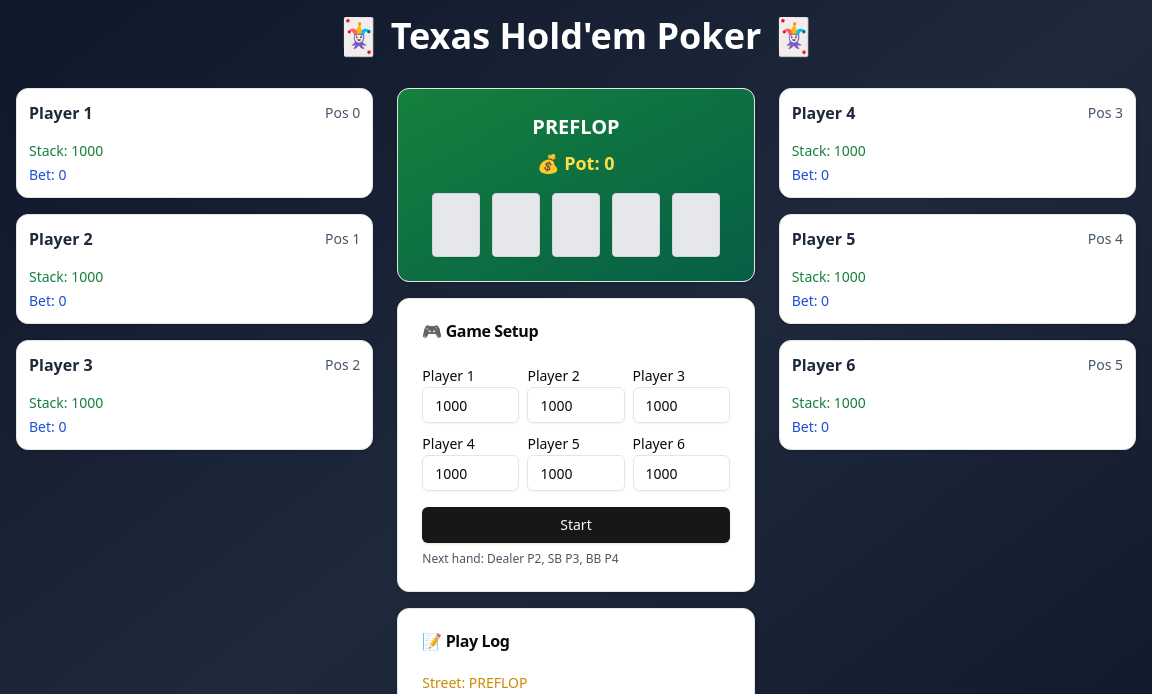
Test: Poker Game Integration Tests › disables invalid actions
Start game
Click the button "Start": click(576, 525) x1=422 y1=507 x2=730 y2=543
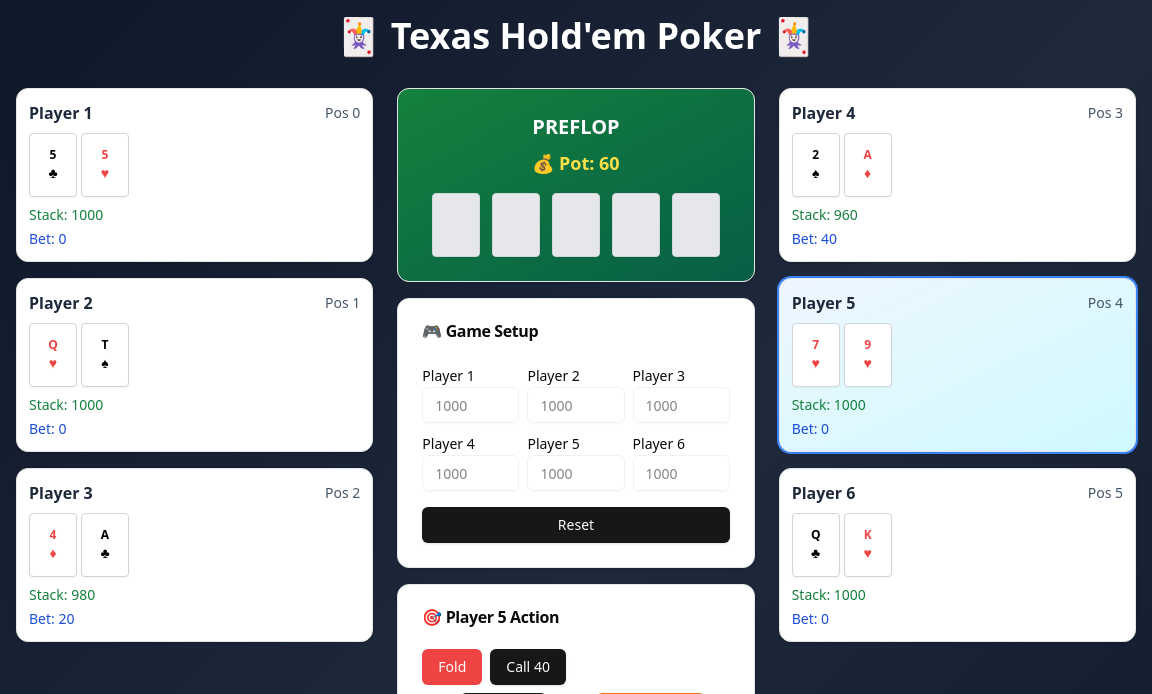
Expected: the button "Call 40" is shown, x1=490 y1=649 x2=566 y2=685
